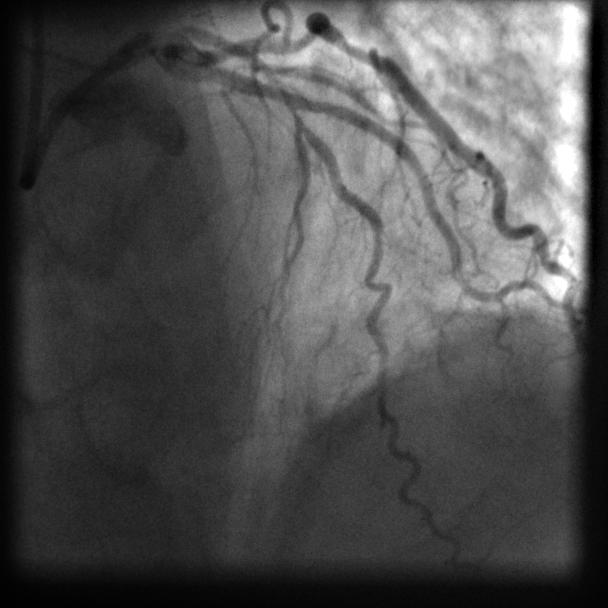Stenosis: (263, 65, 296, 116)
